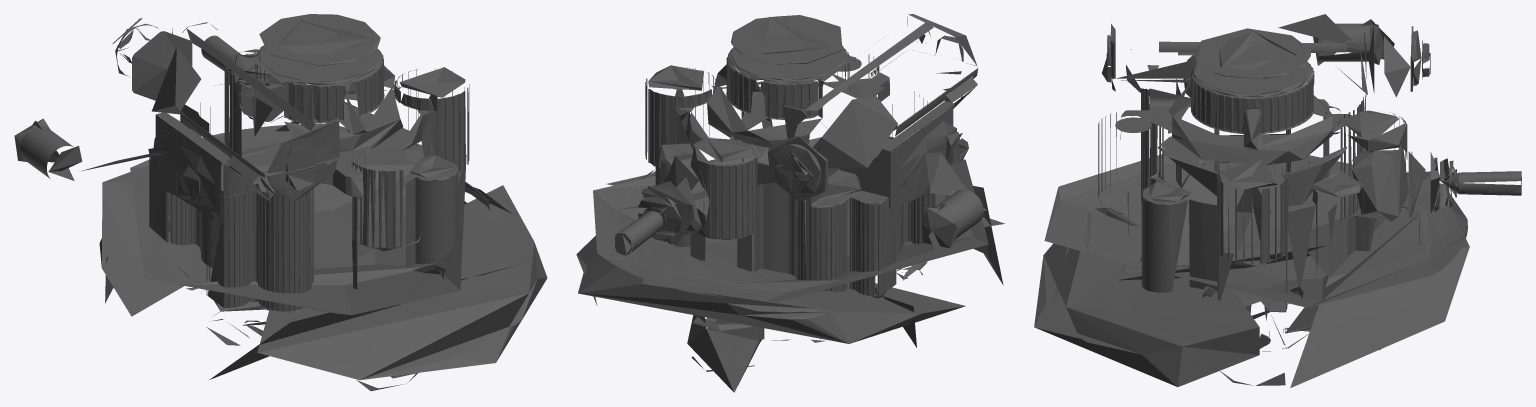
The model's file is steeringSystem_power_steering_pump_a01.glb.
The picture shows the model from 3 angles, left to right: view 1: azimuth 30°, elevation 25°; view 2: azimuth 150°, elevation 25°; view 3: azimuth 270°, elevation 25°; orthographic projection. The views are drawn at different scales.
Visible parts, largest first — view 1: geometry_0; view 2: geometry_0; view 3: geometry_0.
Part boxes in pixels (x1,y1,x2,y2): geometry_0: (14,14,547,391); geometry_0: (576,14,1004,392); geometry_0: (1034,14,1521,387).
Bounding box in the file's own units: 0.4115 × 0.2838 × 0.42.
1 material, 1 textured.
